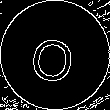O_N: (30, 27, 80, 83)
